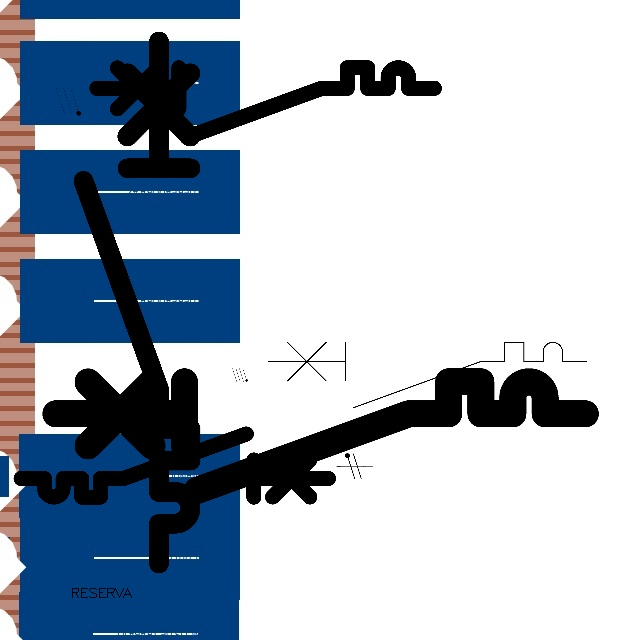interruptor_termomagnetico: (42, 368, 599, 504), (70, 28, 204, 577), (88, 59, 443, 146), (259, 334, 594, 416), (13, 426, 337, 505)
